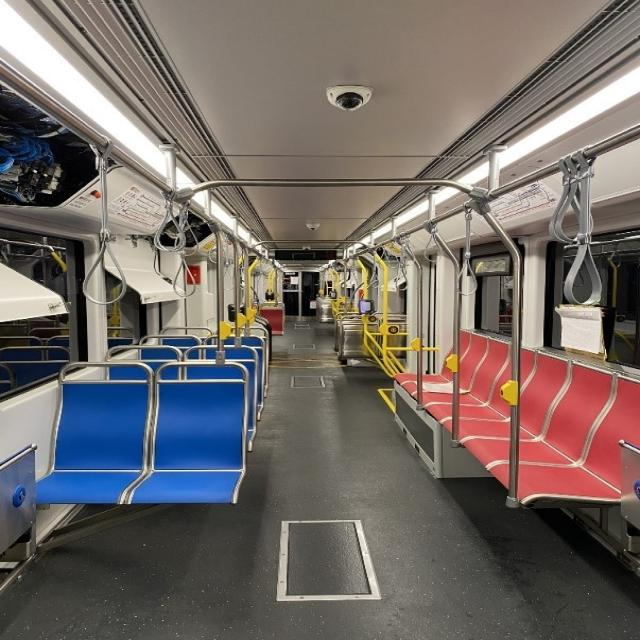empty-seat-frontal: (25, 361, 153, 509), (124, 364, 251, 505)
